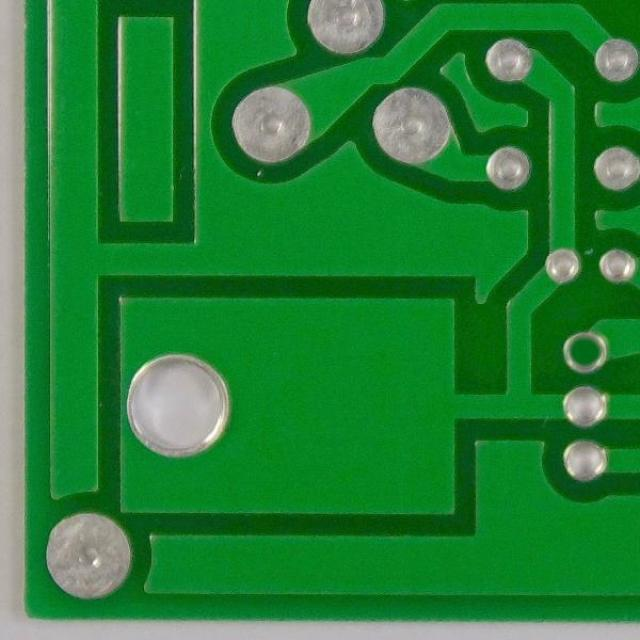missing_hole: (563, 330, 611, 374)
